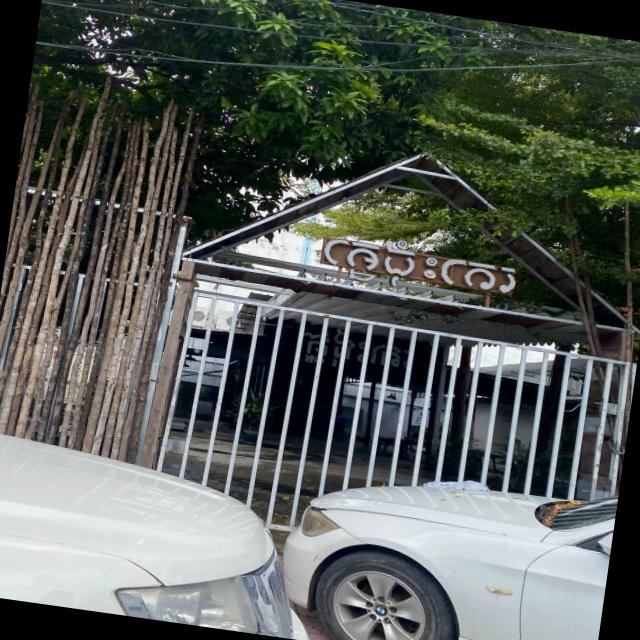Yolov11_80vkh: (308, 232, 528, 303)
